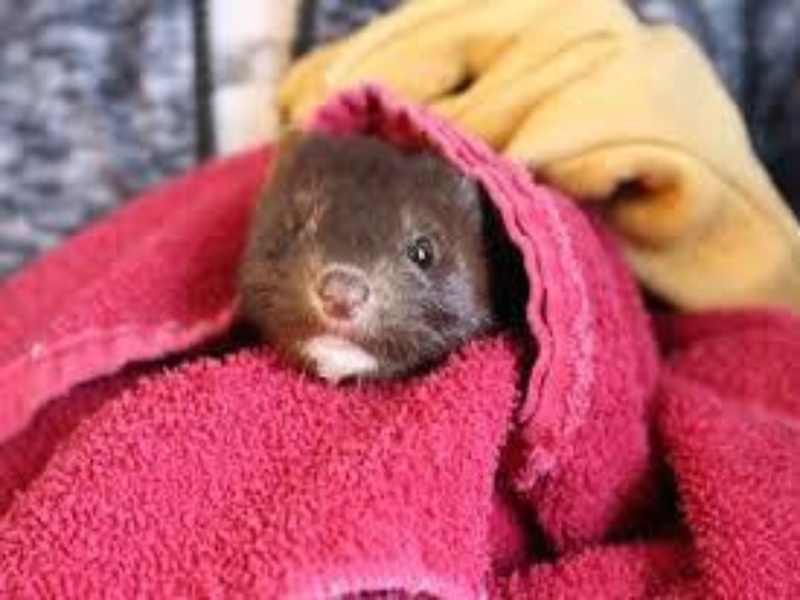minkish: (238, 128, 504, 391)
